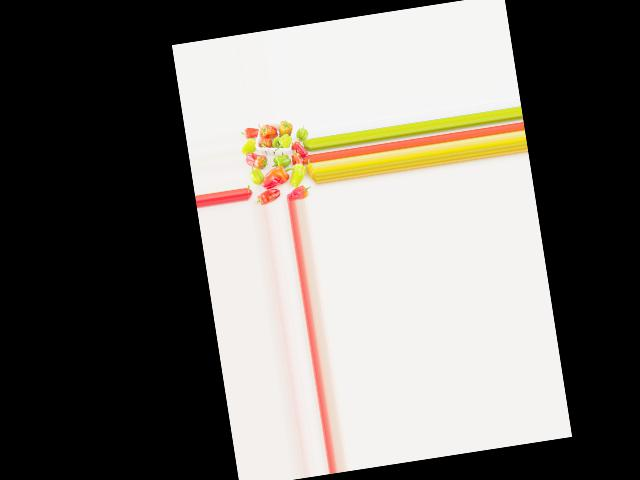bell_pepper: (288, 182, 313, 201)
